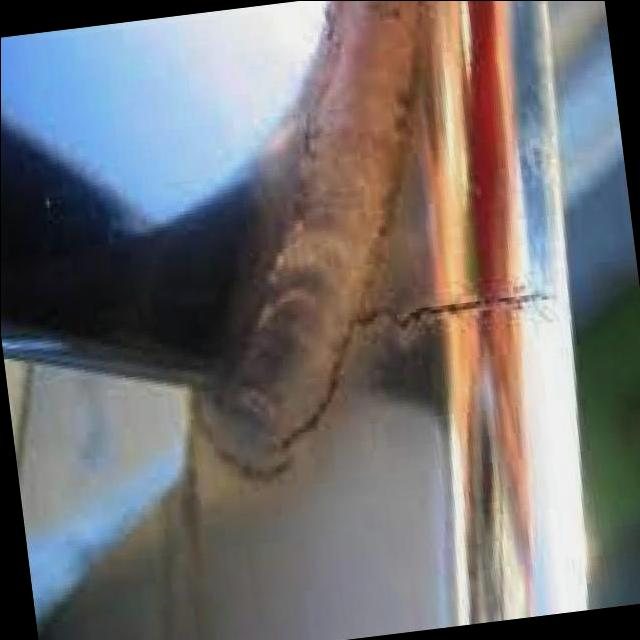defect: (180, 283, 564, 493)
